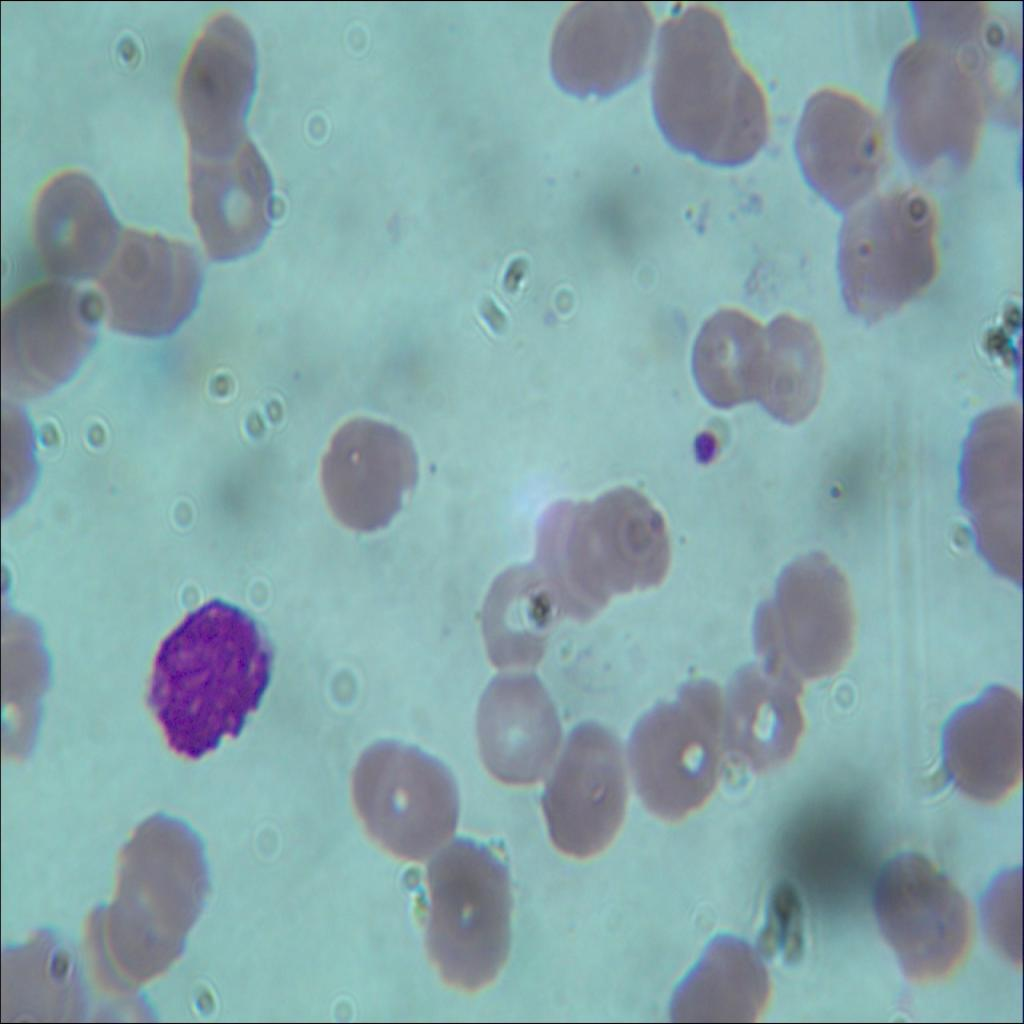Eritrosit: (826, 177, 938, 328), (416, 832, 515, 991), (869, 845, 970, 981), (316, 410, 421, 540), (353, 737, 458, 864), (174, 14, 263, 158), (646, 6, 736, 148), (116, 804, 210, 936), (540, 714, 626, 858), (184, 125, 273, 260), (548, 0, 653, 112), (886, 38, 976, 166), (578, 475, 674, 595), (770, 545, 854, 677), (793, 84, 879, 212), (103, 222, 191, 345), (941, 678, 1023, 808), (478, 664, 559, 790), (626, 698, 716, 810), (34, 170, 122, 284), (11, 282, 98, 390), (684, 302, 766, 415), (476, 559, 554, 675), (718, 658, 798, 770), (531, 491, 608, 607), (689, 67, 770, 169), (100, 888, 186, 984), (754, 314, 824, 428), (690, 930, 770, 1023)
Limfoblast: (146, 591, 279, 770)
Platelet: (688, 426, 721, 465)
